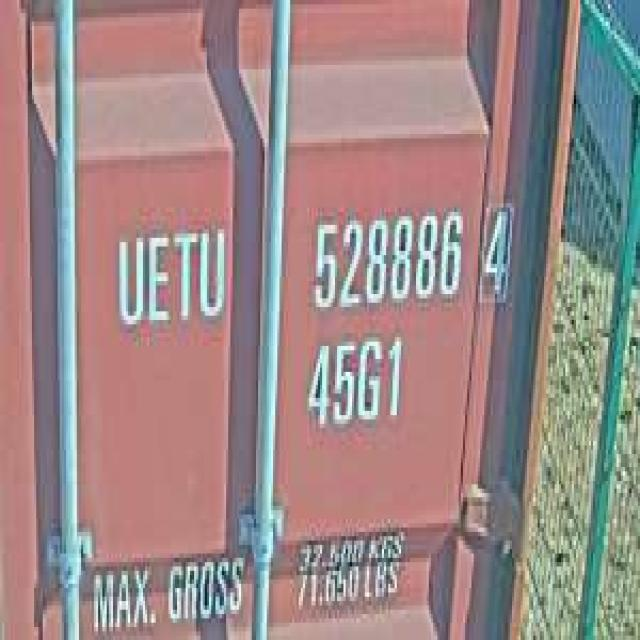dv: (476, 190, 518, 307)
owner: (111, 212, 230, 337)
serial: (303, 194, 465, 316)
size: (301, 328, 405, 436)
